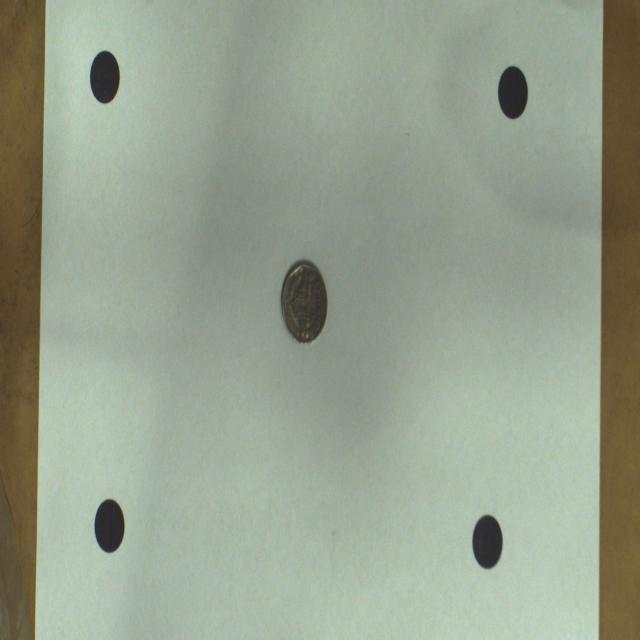space: (90, 51, 120, 104), (95, 500, 125, 553), (498, 67, 528, 120), (472, 516, 502, 569)
tail5bath: (281, 260, 328, 342)
